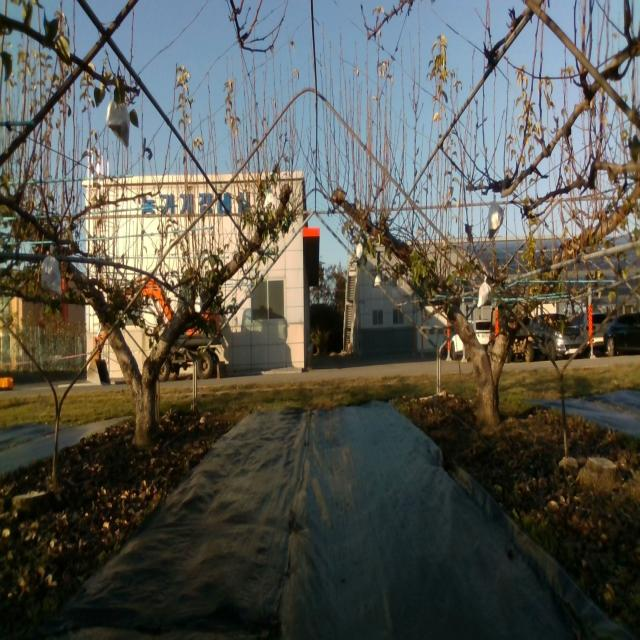pearbags: (40, 245, 62, 298), (105, 100, 128, 147), (487, 193, 504, 240), (477, 275, 492, 310), (264, 188, 275, 206)
